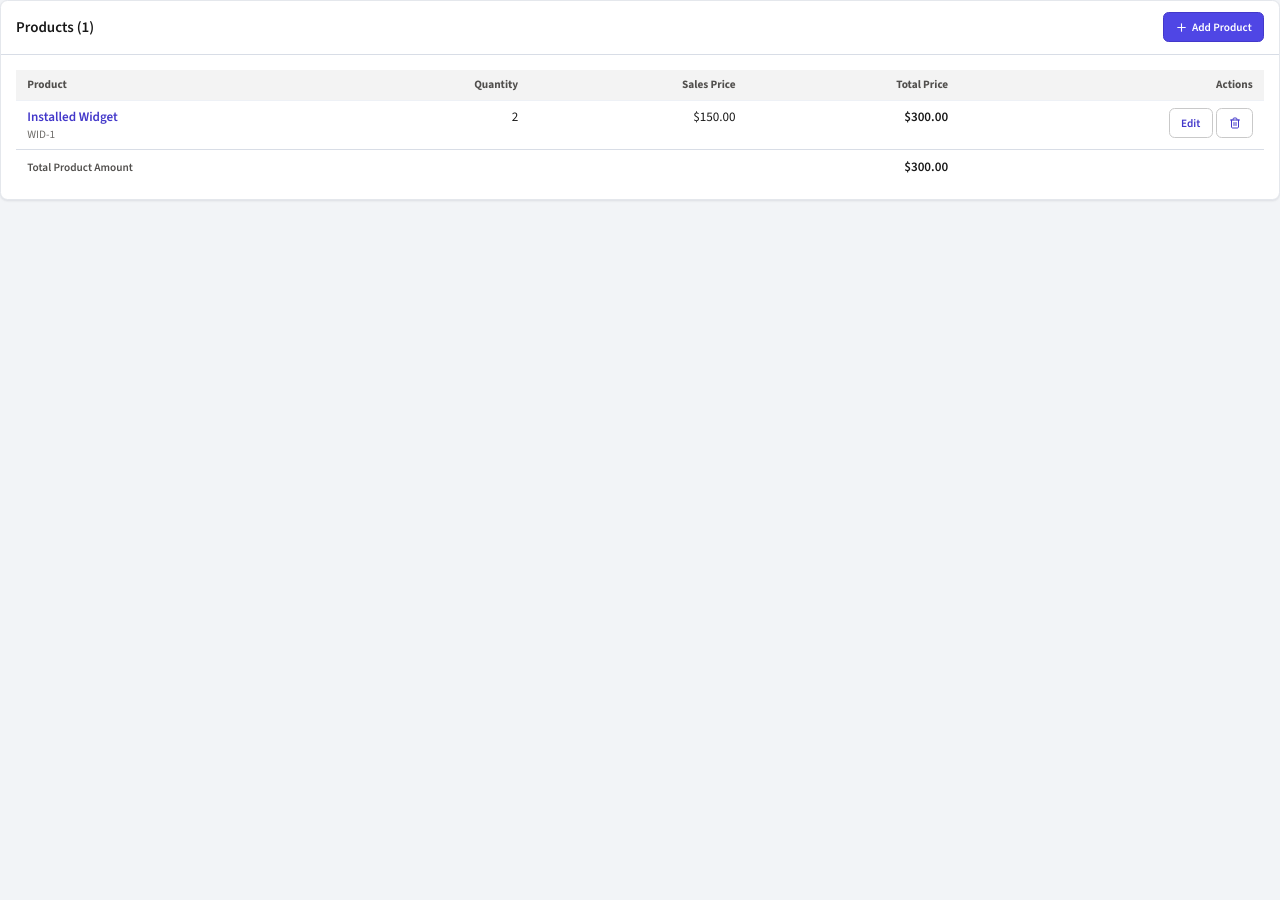
Test: Product lines card › blocks save when quantity or sales price is blank
Click the button "Add Product".
click(1214, 27)  # box [1163,12,1264,42]
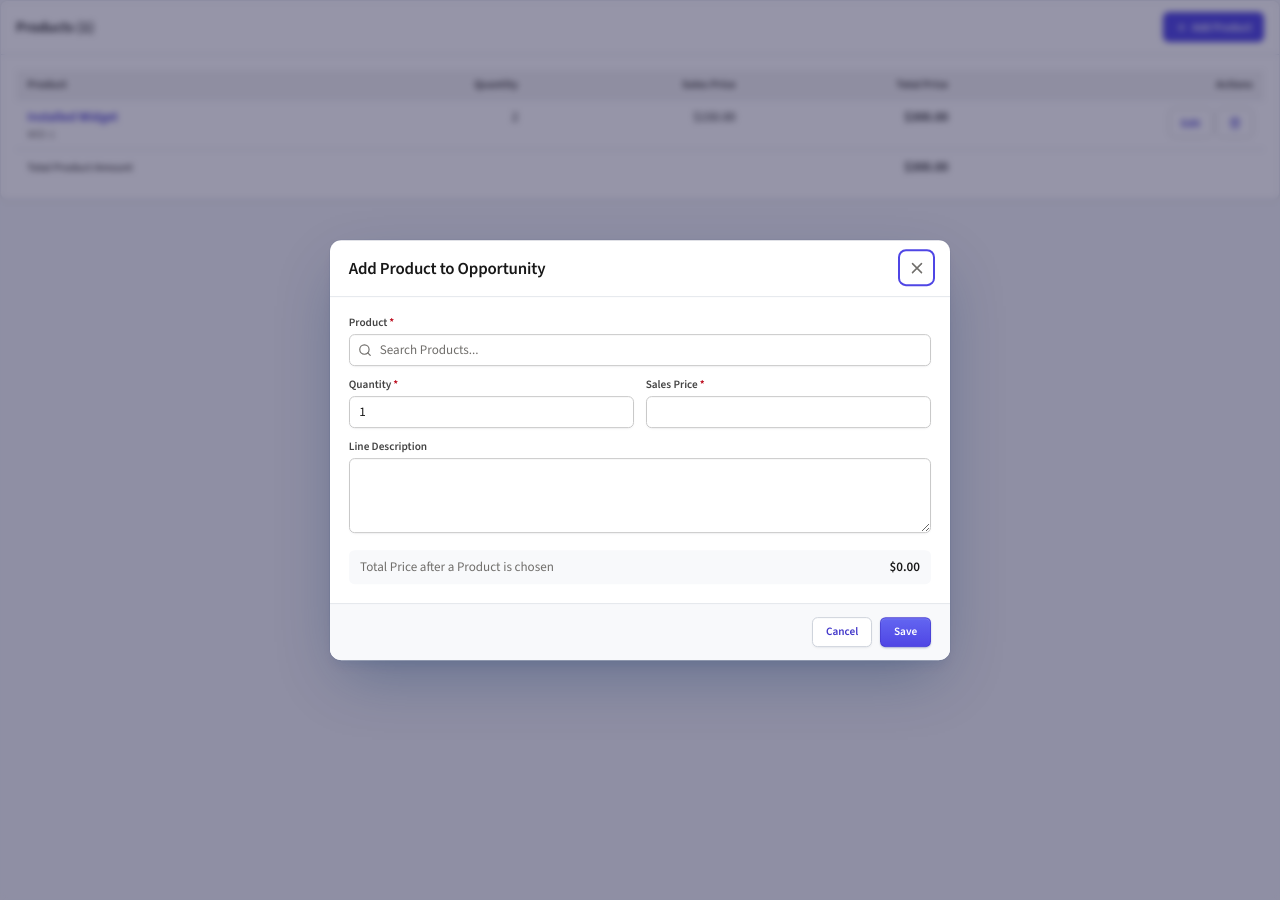
Click the dropdown labelled "Product*".
click(640, 350)  # box [349,334,931,366]
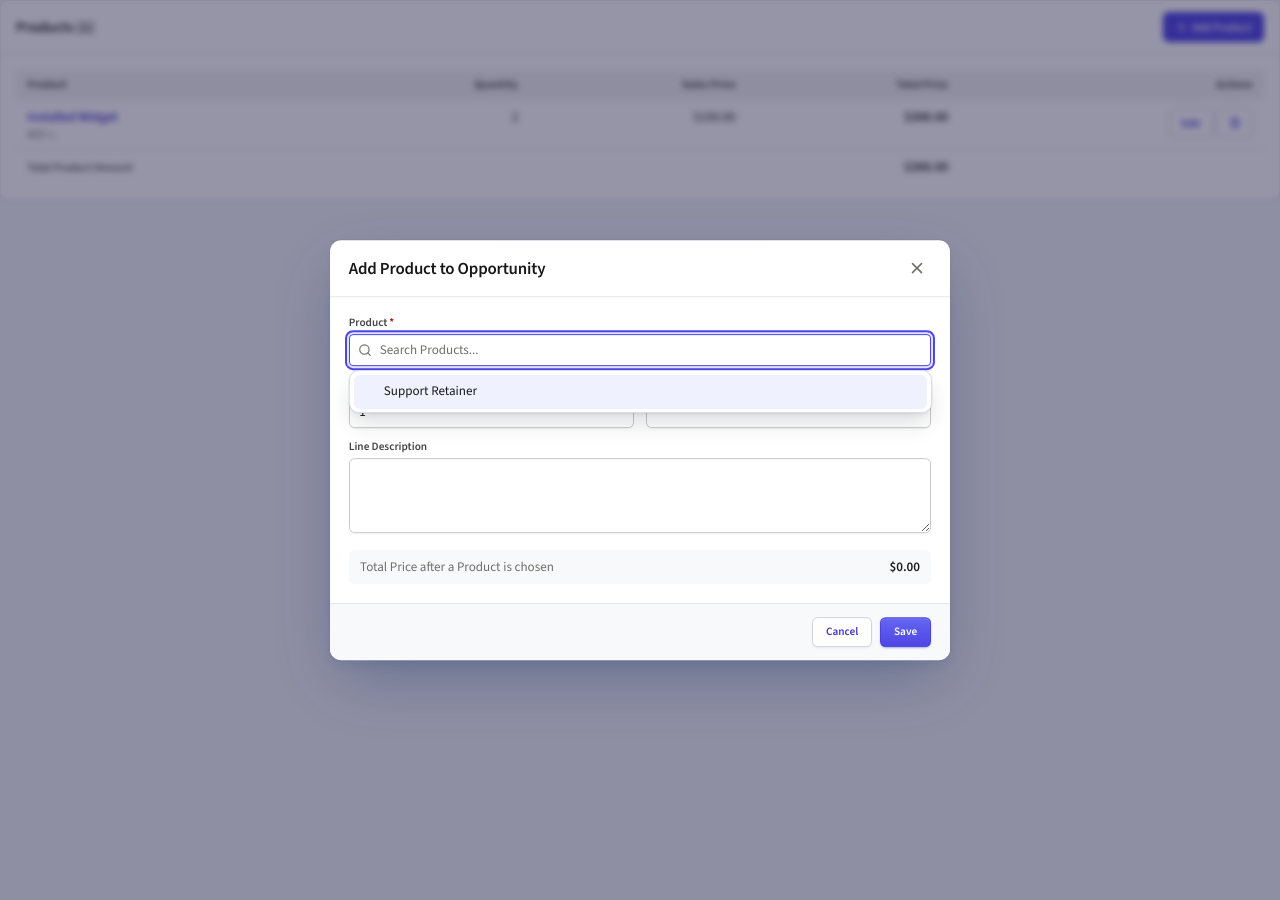
Click the option "Support Retainer".
click(430, 391)  # box [354,375,927,409]
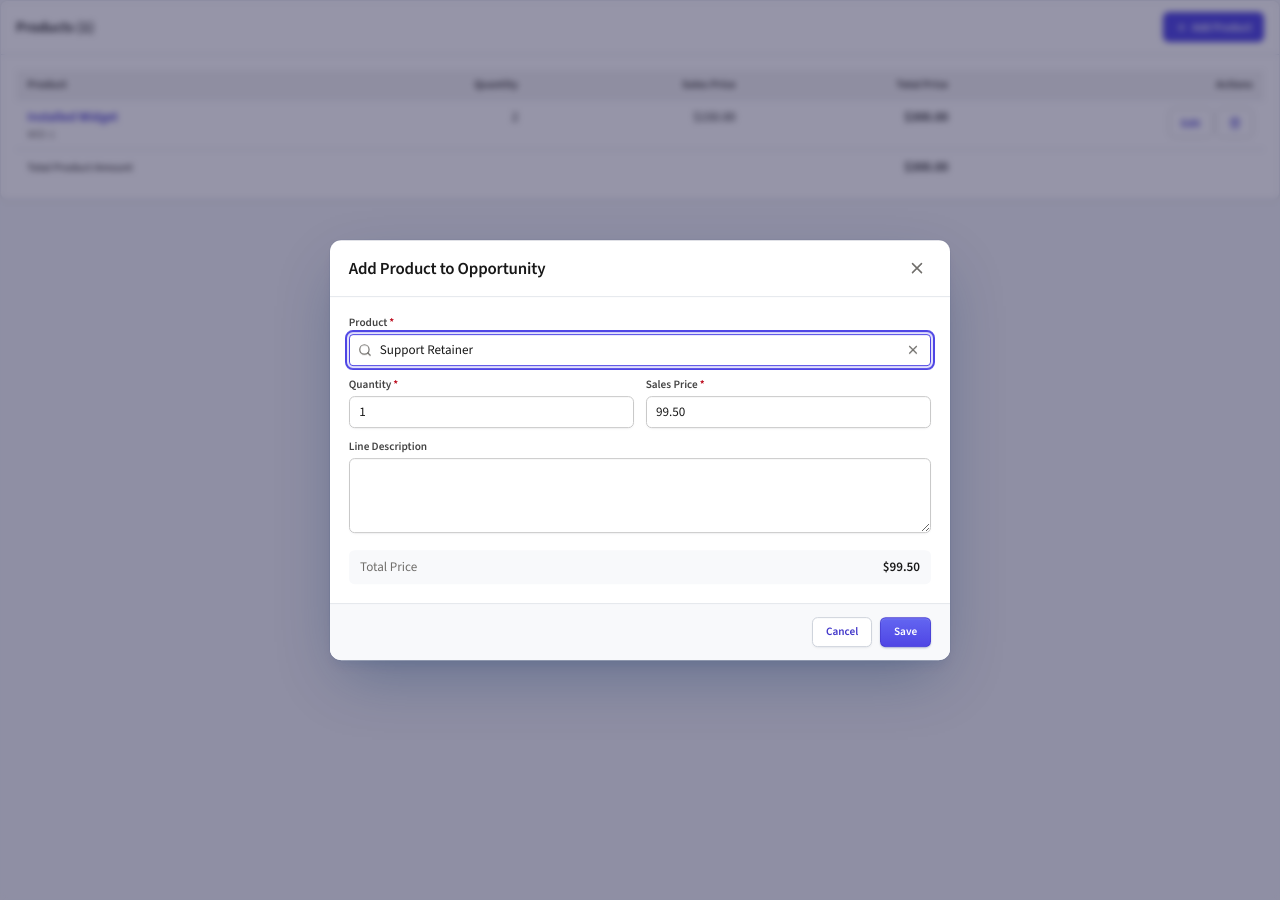
Clear the number field labelled "Sales Price*" at (788, 412), box [646,396,931,428]
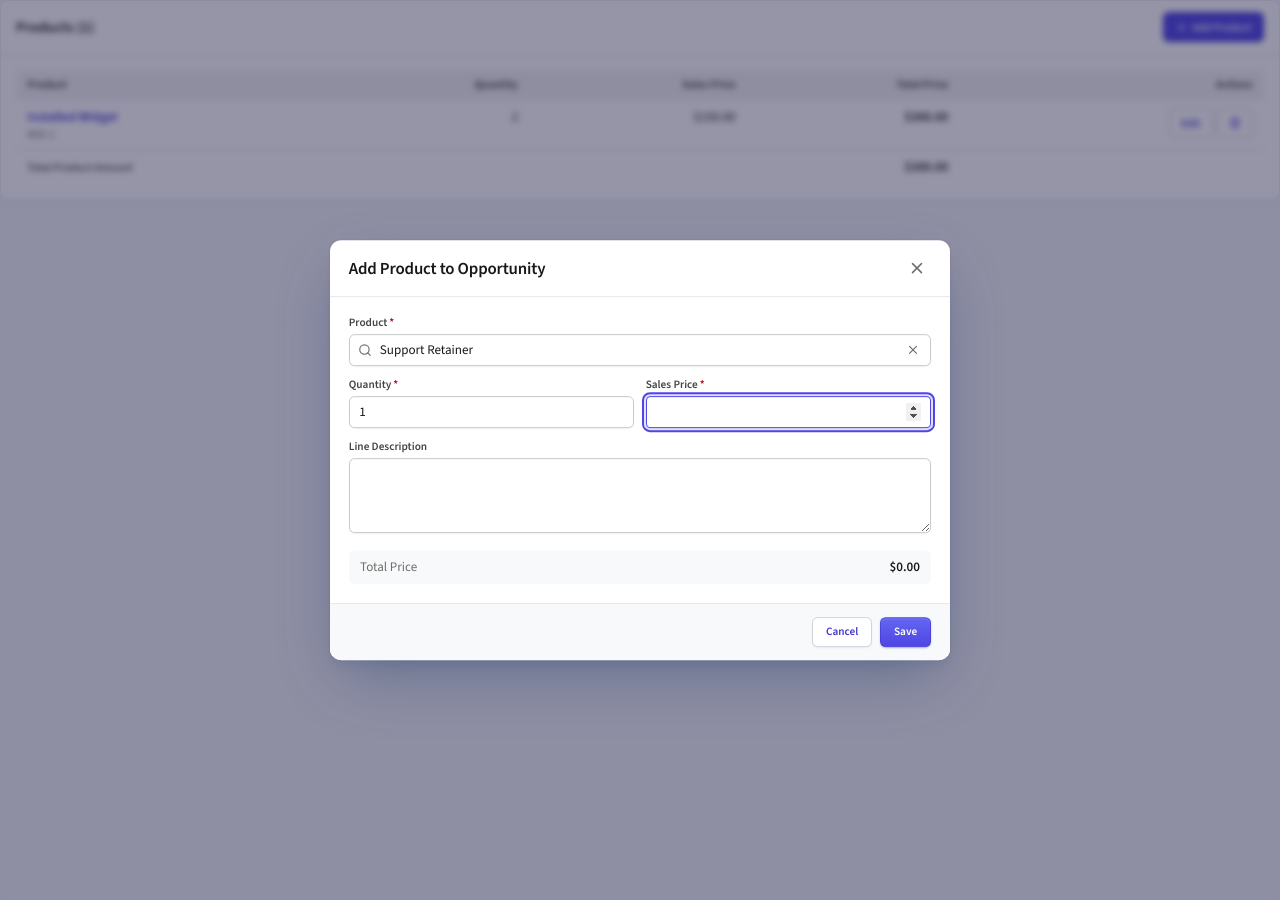
Click the button "Save".
click(906, 632)  # box [880,617,931,647]
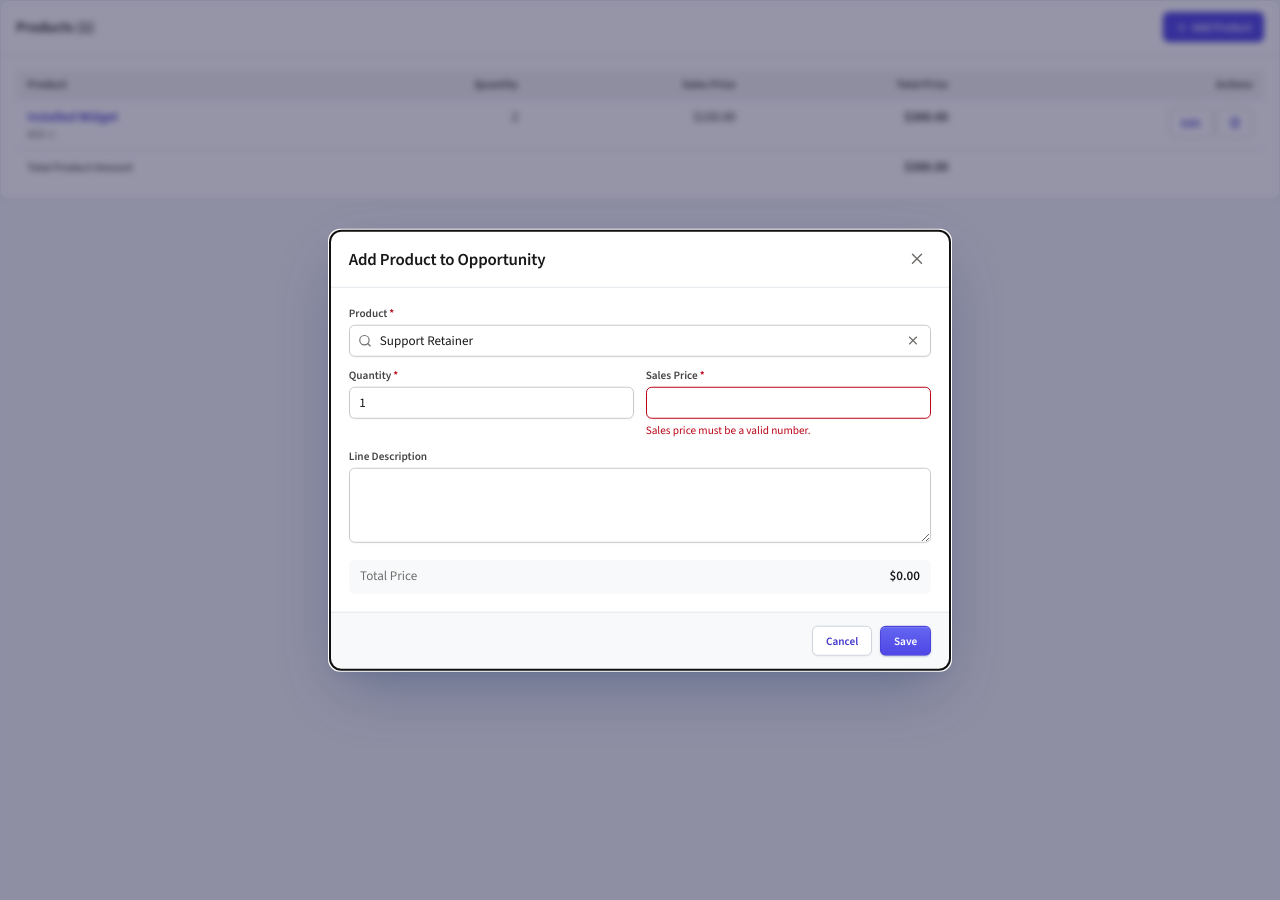
Result: the text "Sales price must be a valid number." is shown at [646,422,811,438]
